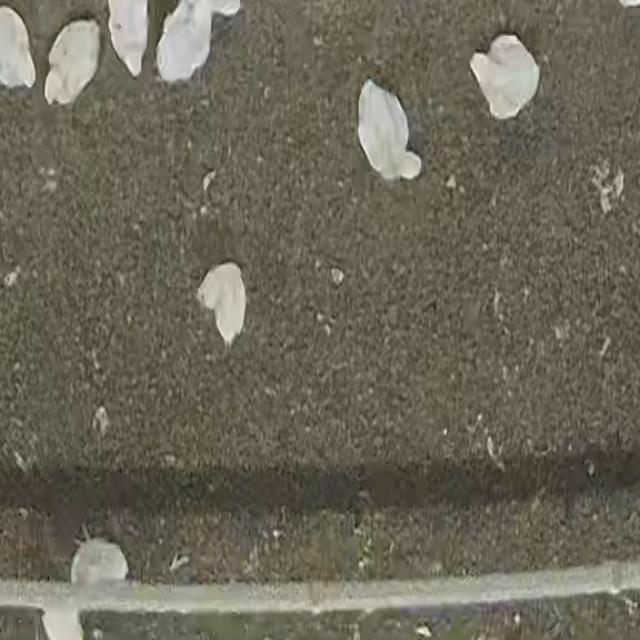chicken: (354, 78, 424, 184), (468, 33, 541, 121), (42, 17, 102, 106), (195, 255, 251, 347), (154, 8, 221, 78), (106, 0, 152, 75)
